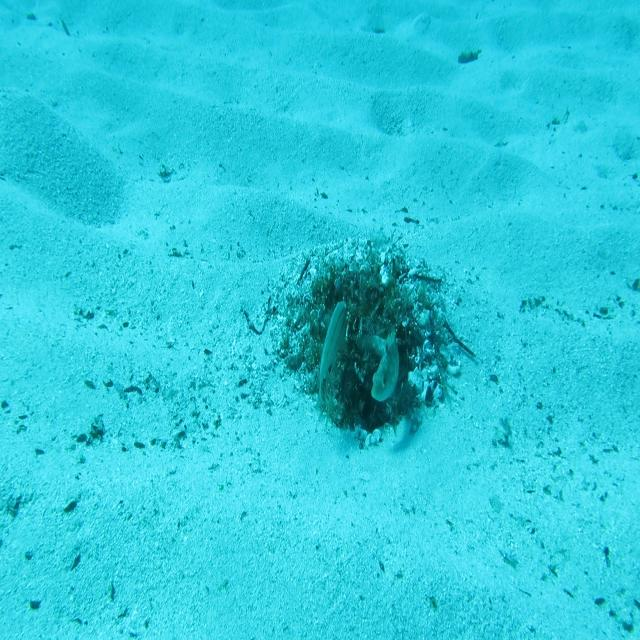BEND: (355, 328, 405, 403)
core_nest: (338, 282, 378, 340)
female: (314, 297, 348, 415)
nest: (253, 211, 468, 465)
vegetation: (456, 50, 484, 68)
